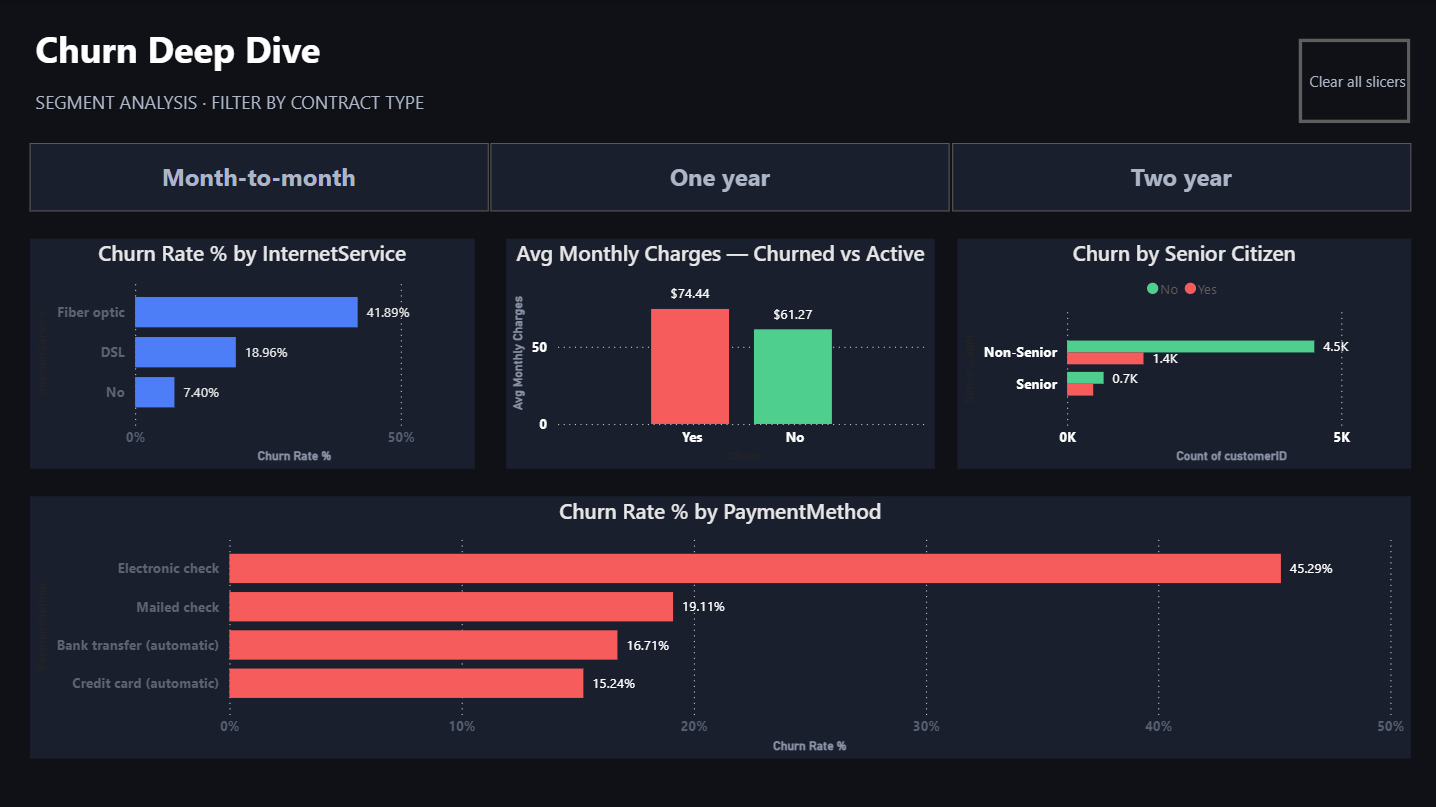

The page's visual inventory and layout, read from the dashboard file:
{"tool":"powerbi","page":{"name":"Churn Deep Dive","canvas":[1280,720],"ordinal":1},"visuals":[{"type":"slicer","title":"FILTER BY CONTRACT","fields":{"Values":["telco_churn.Contract"]},"box":[0,119.7,1280.4,75.1],"z":0},{"type":"clusteredBarChart","fields":{"Category":["telco_churn.PaymentMethod"],"Y":["telco_churn.Churn Rate %"]},"box":[26.4,442.4,1229.7,233.4],"z":1000},{"type":"clusteredBarChart","fields":{"Category":["telco_churn.InternetService"],"Y":["telco_churn.Churn Rate %"]},"box":[26.4,213.1,395.7,204.9],"z":2000},{"type":"clusteredBarChart","title":"Churn by Senior Citizen","fields":{"Y":["CountNonNull(telco_churn.customerID)"],"Series":["telco_churn.Churn"],"Category":["telco_churn.Senior Label"]},"box":[852.3,213.1,403.8,204.9],"z":3000},{"type":"clusteredColumnChart","title":"Avg Monthly Charges — Churned vs Active","fields":{"Category":["telco_churn.Churn"],"Y":["telco_churn.Avg Monthly Charges"]},"box":[450.5,213.1,381.5,204.9],"z":4000},{"type":"textbox","box":[26.4,16.2,300.3,58.8],"z":5000},{"type":"textbox","box":[26.4,75.1,405.8,67],"z":6000},{"type":"actionButton","box":[1156.6,34.5,99.4,75.1],"z":7000}]}

Visuals, with their boxes in screenshot pixels (x1, y1, x2, y2), scaled from the page's 1280x720 canvas onto the 1436x807 screenshot:
"FILTER BY CONTRACT" slicer: box(0, 134, 1435, 218)
clusteredBarChart - telco_churn.PaymentMethod x telco_churn.Churn Rate %: box(30, 496, 1409, 757)
clusteredBarChart - telco_churn.InternetService x telco_churn.Churn Rate %: box(30, 239, 474, 469)
"Churn by Senior Citizen" clusteredBarChart: box(956, 239, 1409, 469)
"Avg Monthly Charges — Churned vs Active" clusteredColumnChart: box(505, 239, 933, 469)
textbox: box(30, 18, 367, 84)
textbox: box(30, 84, 485, 159)
actionButton: box(1298, 39, 1409, 123)
